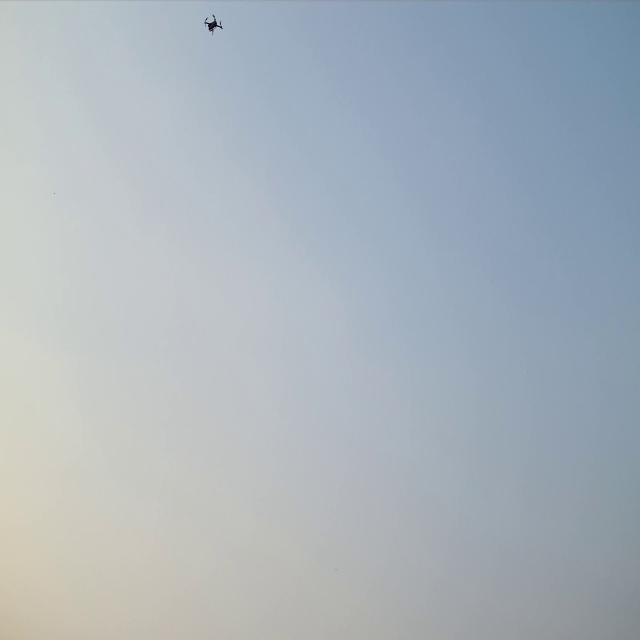UAV: (202, 14, 224, 36)
